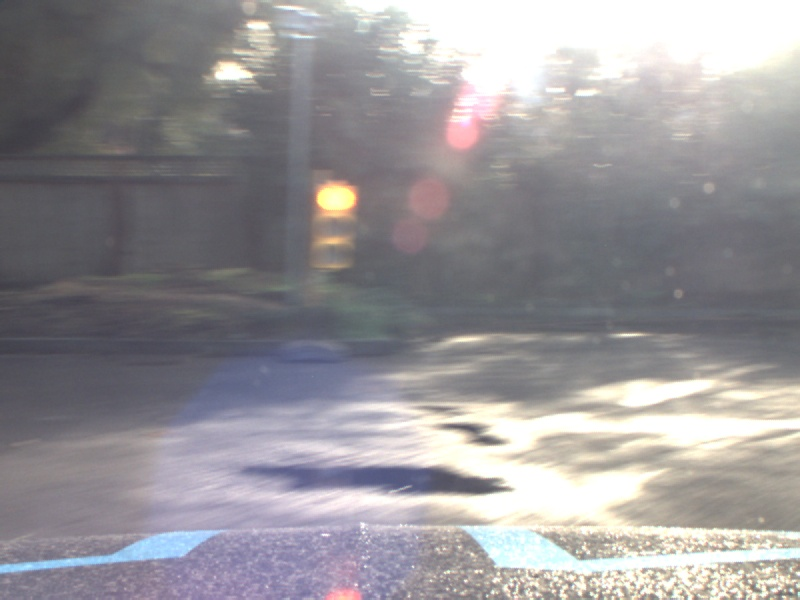Red: (312, 181, 356, 266)
